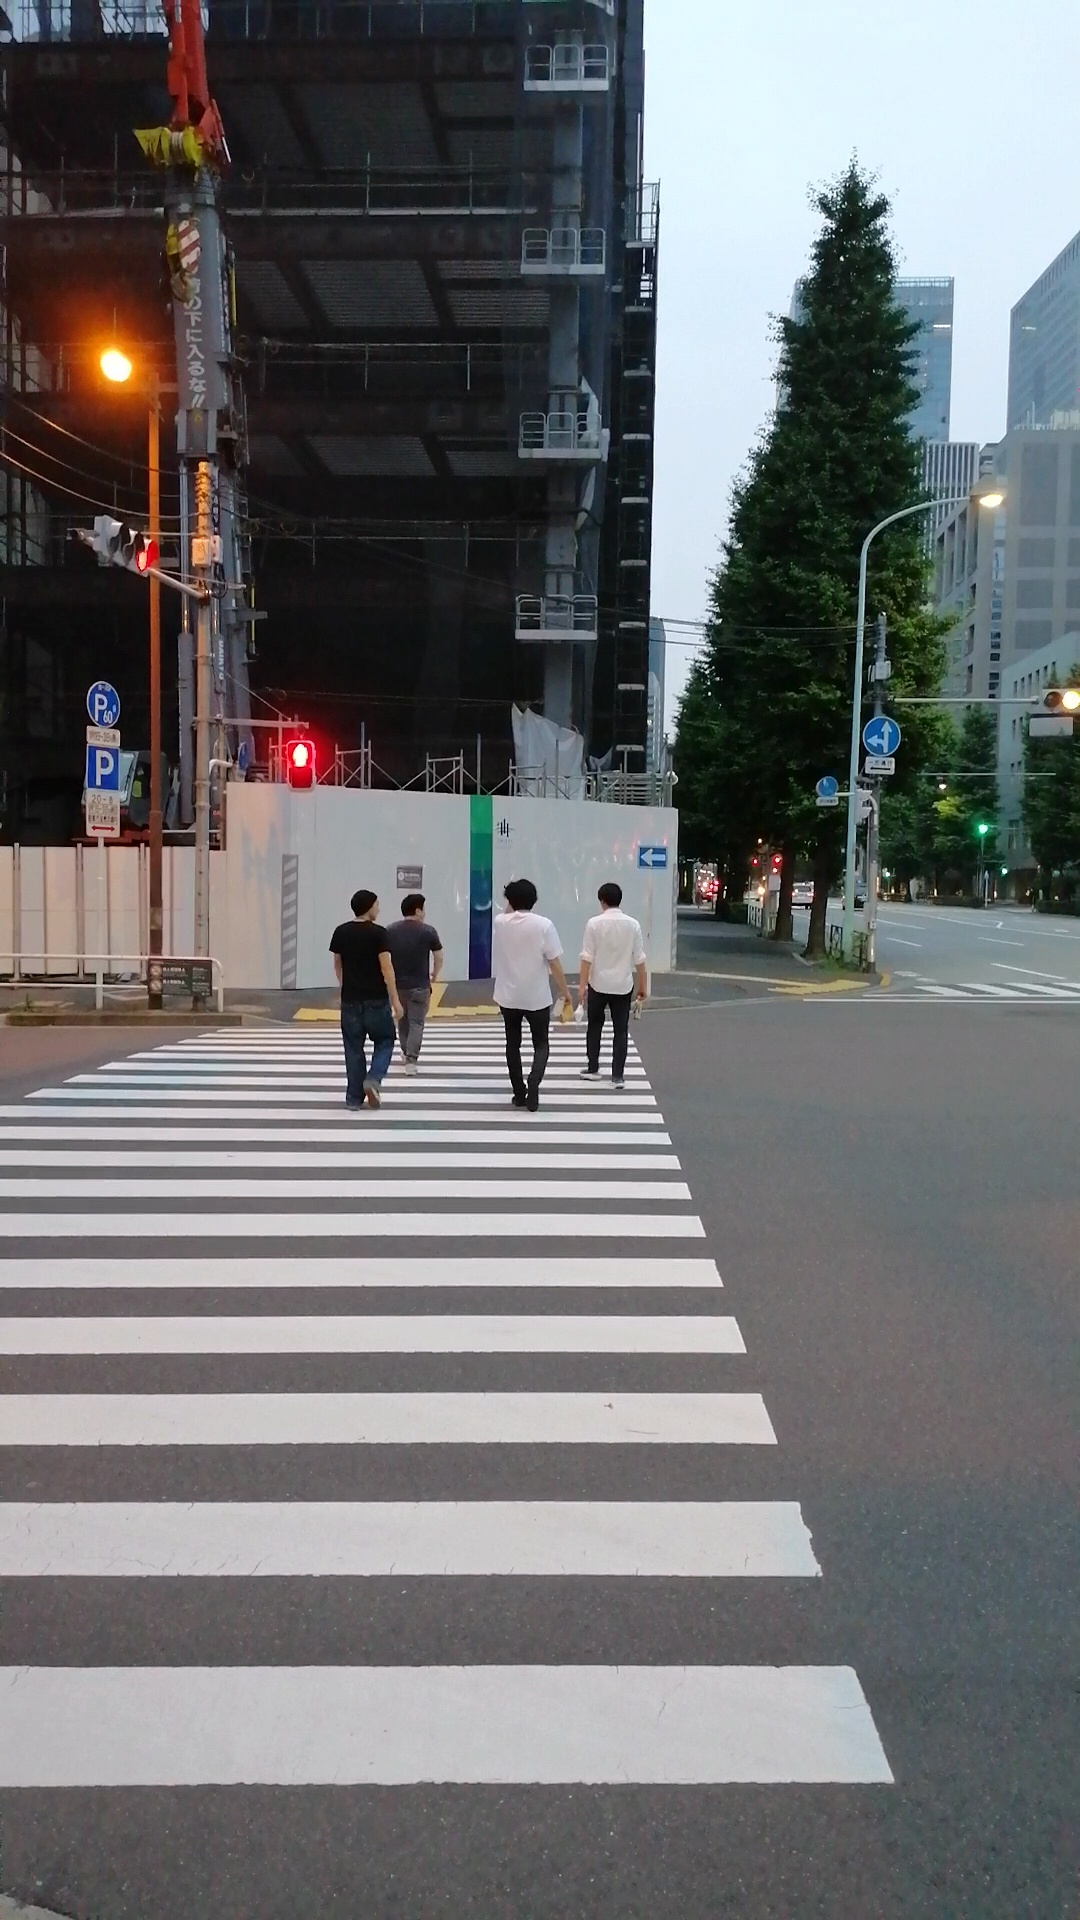red: (285, 740, 315, 793)
